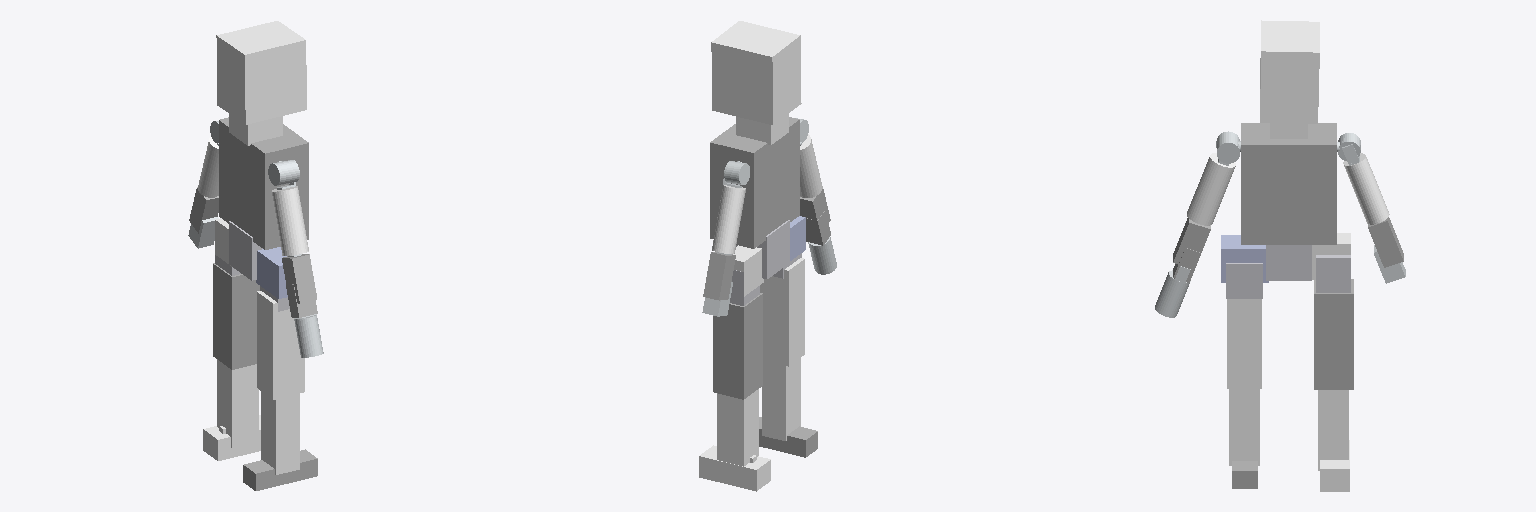
--- What the picture shows (computed from the rendered views, not written in the file) ---
The picture shows the robot from 3 angles, left to right: view 1: azimuth 30°, elevation 25°; view 2: azimuth 150°, elevation 25°; view 3: azimuth 270°, elevation 25°; orthographic projection.
Robot: ludan_v0 — 31 links, 30 joints (30 revolute); root link Body; default pose: every joint at zero.
Links seen in each view (by area): view 1: NeckPitch, Body, LeftHipYaw, RightHipYaw, LeftKnee, RightKnee, RightShoulderYaw, RightAnkleRoll, WaistYaw, RightHipPitch, RightElbowYaw, LeftAnkleRoll (+8 smaller); view 2: NeckPitch, Body, LeftHipYaw, RightHipYaw, RightKnee, LeftKnee, LeftAnkleRoll, LeftShoulderYaw, WaistYaw, LeftElbowYaw, RightAnkleRoll, RightShoulderYaw (+8 smaller); view 3: Body, NeckPitch, LeftHipYaw, RightHipYaw, RightKnee, LeftKnee, RightShoulderYaw, WaistYaw, LeftShoulderYaw, RightHipRoll, LeftHipRoll, RightHipPitch (+8 smaller).
Link boxes in pixels (x1,y1,x2,y2): NeckPitch: (216,21,306,124); Body: (219,117,308,249); LeftHipYaw: (213,263,259,369); RightHipYaw: (257,291,304,399); LeftKnee: (217,359,258,447); RightKnee: (261,391,299,474); RightShoulderYaw: (271,186,308,255); RightAnkleRoll: (243,449,317,490); WaistYaw: (229,221,262,280); RightHipPitch: (256,247,287,298); RightElbowYaw: (282,254,316,303); LeftAnkleRoll: (203,415,260,460); NeckPitch: (711,21,801,124); Body: (710,117,799,248); LeftHipYaw: (713,293,762,399); RightHipYaw: (760,258,804,366); RightKnee: (762,358,800,440); LeftKnee: (717,389,758,466); LeftAnkleRoll: (699,445,770,491); LeftShoulderYaw: (712,185,745,253); WaistYaw: (736,220,789,278); LeftElbowYaw: (703,252,735,300); RightAnkleRoll: (759,417,817,457); RightShoulderYaw: (800,134,822,197); Body: (1241,123,1336,244); NeckPitch: (1260,20,1319,123); LeftHipYaw: (1314,279,1353,389); RightHipYaw: (1227,299,1261,388); RightKnee: (1229,389,1259,465); LeftKnee: (1318,390,1348,470); RightShoulderYaw: (1187,153,1235,225); WaistYaw: (1266,245,1311,280); LeftShoulderYaw: (1343,153,1389,224); RightHipRoll: (1226,263,1262,298); LeftHipRoll: (1316,255,1350,292); RightHipPitch: (1221,235,1268,282).
Size in the robot's own frame: 0.2642 by 0.859 by 1.67 metres.
Meshes: 31 distinct files referenced, 30 mesh visuals loaded (30 binary STL); not drawn: 1 (reference not matched to a file when rendering).

The robot description file, URDF, robot "ludan_v0":
<?xml version="1.0" encoding="utf-8"?>
<!-- This URDF was automatically created by SolidWorks to URDF Exporter! Originally created by Stephen Brawner ([email redacted]) 
     Commit Version: 1.6.0-4-g7f85cfe  Build Version: 1.6.7995.38578
     For more information, please see http://wiki.ros.org/sw_urdf_exporter -->
<robot
  name="ludan_v0">
  <link
    name="Body">
    <inertial>
      <origin
        xyz="-0.0152240784632266 0.00062608413149691 0.141622269399153"
        rpy="0 0 0" />
      <mass
        value="8.74374296139117" />
      <inertia
        ixx="0.0473817781113333"
        ixy="8.07737065111168E-05"
        ixz="0.000506515175561223"
        iyy="0.0451932389195734"
        iyz="-9.47147111266396E-06"
        izz="0.0434202297379664" />
    </inertial>
    <visual>
      <origin
        xyz="0 0 0"
        rpy="0 0 0" />
      <geometry>
        <mesh
          filename="package://ludan_v0/meshes/Body.STL" />
      </geometry>
      <material
        name="">
        <color
          rgba="0.752941176470588 0.752941176470588 0.752941176470588 1" />
      </material>
    </visual>
    <collision>
      <origin
        xyz="0 0 0"
        rpy="0 0 0" />
      <geometry>
        <mesh
          filename="package://ludan_v0/meshes/Body.STL" />
      </geometry>
    </collision>
  </link>
  <link
    name="RightShoulderPitch">
    <inertial>
      <origin
        xyz="0.000649259359740931 -0.0102344632841132 0.0855693151871858"
        rpy="0 0 0" />
      <mass
        value="0.399434037733127" />
      <inertia
        ixx="0.000438266967537689"
        ixy="-7.73429398851146E-06"
        ixz="-9.04193137842321E-07"
        iyy="0.000563369056047911"
        iyz="1.60874802335731E-05"
        izz="0.0002563898582228" />
    </inertial>
    <visual>
      <origin
        xyz="0 0 0"
        rpy="0 0 0" />
      <geometry>
        <mesh
          filename="package://ludan_v0/meshes/RightShoulderPitch.STL" />
      </geometry>
      <material
        name="">
        <color
          rgba="0.898039215686275 0.917647058823529 0.929411764705882 1" />
      </material>
    </visual>
    <collision>
      <origin
        xyz="0 0 0"
        rpy="0 0 0" />
      <geometry>
        <mesh
          filename="package://ludan_v0/meshes/RightShoulderPitch.STL" />
      </geometry>
    </collision>
  </link>
  <joint
    name="RightShoulderPitch"
    type="revolute">
    <origin
      xyz="-0.0322633432164609 -0.1152375336243 0.314519084670872"
      rpy="-2.80633430581836 1.38585794535674 1.91143454067405" />
    <parent
      link="Body" />
    <child
      link="RightShoulderPitch" />
    <axis
      xyz="0 0 -1" />
    <limit
      lower="-3"
      upper="3"
      effort="100"
      velocity="100" />
  </joint>
  <link
    name="RightShoulderRoll">
    <inertial>
      <origin
        xyz="0.0283985609999437 -0.016395916837917 0.00928679086743772"
        rpy="0 0 0" />
      <mass
        value="0.0842363600759801" />
      <inertia
        ixx="3.83586021615135E-05"
        ixy="1.02399757305923E-05"
        ixz="1.32898641792268E-05"
        iyy="5.01827076506183E-05"
        iyz="-7.67290666137038E-06"
        izz="4.56934761942265E-05" />
    </inertial>
    <visual>
      <origin
        xyz="0 0 0"
        rpy="0 0 0" />
      <geometry>
        <mesh
          filename="package://ludan_v0/meshes/RightShoulderRoll.STL" />
      </geometry>
      <material
        name="">
        <color
          rgba="0.898039215686275 0.917647058823529 0.929411764705882 1" />
      </material>
    </visual>
    <collision>
      <origin
        xyz="0 0 0"
        rpy="0 0 0" />
      <geometry>
        <mesh
          filename="package://ludan_v0/meshes/RightShoulderRoll.STL" />
      </geometry>
    </collision>
  </link>
  <joint
    name="RightShoulderRoll"
    type="revolute">
    <origin
      xyz="0 0 0.0931999999999983"
      rpy="-1.57079632679489 0 0.0614729335395356" />
    <parent
      link="RightShoulderPitch" />
    <child
      link="RightShoulderRoll" />
    <axis
      xyz="0 0 -1" />
    <limit
      lower="-0.261"
      upper="2.6"
      effort="100"
      velocity="100" />
  </joint>
  <link
    name="RightShoulderYaw">
    <inertial>
      <origin
        xyz="-0.00440229399088043 -5.54404399627992E-05 -0.211239092270953"
        rpy="0 0 0" />
      <mass
        value="1.48801509204858" />
      <inertia
        ixx="0.00273302752670722"
        ixy="-1.13916521054185E-07"
        ixz="-0.000375651189212337"
        iyy="0.00268983764667374"
        iyz="4.30135940240202E-07"
        izz="0.000858677131785925" />
    </inertial>
    <visual>
      <origin
        xyz="0 0 0"
        rpy="0 0 0" />
      <geometry>
        <mesh
          filename="package://ludan_v0/meshes/RightShoulderYaw.STL" />
      </geometry>
      <material
        name="">
        <color
          rgba="1 1 1 1" />
      </material>
    </visual>
    <collision>
      <origin
        xyz="0 0 0"
        rpy="0 0 0" />
      <geometry>
        <mesh
          filename="package://ludan_v0/meshes/RightShoulderYaw.STL" />
      </geometry>
    </collision>
  </link>
  <joint
    name="RightShoulderYaw"
    type="revolute">
    <origin
      xyz="0 0 -0.0142862201502383"
      rpy="-1.5707963267949 0 1.04719755119659" />
    <parent
      link="RightShoulderRoll" />
    <child
      link="RightShoulderYaw" />
    <axis
      xyz="0 0 -1" />
    <limit
      lower="-3"
      upper="3"
      effort="100"
      velocity="100" />
  </joint>
  <link
    name="RightElbowPitch">
    <inertial>
      <origin
        xyz="6.52256026967279E-16 -0.021591110513575 0.0210579952501236"
        rpy="0 0 0" />
      <mass
        value="0.0438813047880979" />
      <inertia
        ixx="1.80810396543836E-05"
        ixy="2.74528647736014E-21"
        ixz="7.57030103690086E-21"
        iyy="1.03757928904686E-05"
        iyz="-5.18605928564471E-06"
        izz="1.59835320120182E-05" />
    </inertial>
    <visual>
      <origin
        xyz="0 0 0"
        rpy="0 0 0" />
      <geometry>
        <mesh
          filename="package://ludan_v0/meshes/RightElbowPitch.STL" />
      </geometry>
      <material
        name="">
        <color
          rgba="0.898039215686275 0.917647058823529 0.929411764705882 1" />
      </material>
    </visual>
    <collision>
      <origin
        xyz="0 0 0"
        rpy="0 0 0" />
      <geometry>
        <mesh
          filename="package://ludan_v0/meshes/RightElbowPitch.STL" />
      </geometry>
    </collision>
  </link>
  <joint
    name="RightElbowPitch"
    type="revolute">
    <origin
      xyz="0 0 -0.259855262105579"
      rpy="1.5707963267949 0 1.5707963267949" />
    <parent
      link="RightShoulderYaw" />
    <child
      link="RightElbowPitch" />
    <axis
      xyz="0 0 -1" />
    <limit
      lower="-2.09"
      upper="2.09"
      effort="100"
      velocity="100" />
  </joint>
  <link
    name="RightElbowYaw">
    <inertial>
      <origin
        xyz="1.4345173978407E-05 -0.00303201104231993 -0.113601106543956"
        rpy="0 0 0" />
      <mass
        value="1.83396454448814" />
      <inertia
        ixx="0.000686030243491682"
        ixy="-9.45777875907854E-07"
        ixz="5.15511842189736E-08"
        iyy="0.000739531755099932"
        iyz="1.15952973367071E-05"
        izz="0.000706845335750933" />
    </inertial>
    <visual>
      <origin
        xyz="0 0 0"
        rpy="0 0 0" />
      <geometry>
        <mesh
          filename="package://ludan_v0/meshes/RightElbowYaw.STL" />
      </geometry>
      <material
        name="">
        <color
          rgba="0.752941176470588 0.752941176470588 0.752941176470588 1" />
      </material>
    </visual>
    <collision>
      <origin
        xyz="0 0 0"
        rpy="0 0 0" />
      <geometry>
        <mesh
          filename="package://ludan_v0/meshes/RightElbowYaw.STL" />
      </geometry>
    </collision>
  </link>
  <joint
    name="RightElbowYaw"
    type="revolute">
    <origin
      xyz="0 0 0.0052999999999998"
      rpy="-1.5707963267949 0 0" />
    <parent
      link="RightElbowPitch" />
    <child
      link="RightElbowYaw" />
    <axis
      xyz="0 0 -1" />
    <limit
      lower="-3.14"
      upper="3.14"
      effort="100"
      velocity="100" />
  </joint>
  <link
    name="RightWristPitch">
    <inertial>
      <origin
        xyz="-0.00419634598488629 -0.0590033320610976 0.0106310495276834"
        rpy="0 0 0" />
      <mass
        value="0.989249767931049" />
      <inertia
        ixx="0.000486339238994847"
        ixy="3.32579444406753E-05"
        ixz="1.31760301658227E-05"
        iyy="0.000363390695597361"
        iyz="-3.15487399745197E-05"
        izz="0.000438176541327479" />
    </inertial>
    <visual>
      <origin
        xyz="0 0 0"
        rpy="0 0 0" />
      <geometry>
        <mesh
          filename="package://ludan_v0/meshes/RightWristPitch.STL" />
      </geometry>
      <material
        name="">
        <color
          rgba="0.752941176470588 0.752941176470588 0.752941176470588 1" />
      </material>
    </visual>
    <collision>
      <origin
        xyz="0 0 0"
        rpy="0 0 0" />
      <geometry>
        <mesh
          filename="package://ludan_v0/meshes/RightWristPitch.STL" />
      </geometry>
    </collision>
  </link>
  <joint
    name="RightWristPitch"
    type="revolute">
    <origin
      xyz="0 0 -0.163300000000002"
      rpy="1.5707963267949 0 0" />
    <parent
      link="RightElbowYaw" />
    <child
      link="RightWristPitch" />
    <axis
      xyz="0 0 -1" />
    <limit
      lower="-1.83"
      upper="1.83"
      effort="100"
      velocity="100" />
  </joint>
  <link
    name="RightWristRoll">
    <inertial>
      <origin
        xyz="0.0912420192062163 0.00257025273467509 0.00736570749180179"
        rpy="0 0 0" />
      <mass
        value="0.380767938949113" />
      <inertia
        ixx="0.000164898325375258"
        ixy="2.41583944639132E-06"
        ixz="1.23494736177959E-05"
        iyy="0.000476195990905417"
        iyz="-5.4112053925284E-06"
        izz="0.00038541928208078" />
    </inertial>
    <visual>
      <origin
        xyz="0 0 0"
        rpy="0 0 0" />
      <geometry>
        <mesh
          filename="package://ludan_v0/meshes/RightWristRoll.STL" />
      </geometry>
      <material
        name="">
        <color
          rgba="0.898039215686275 0.917647058823529 0.929411764705882 1" />
      </material>
    </visual>
    <collision>
      <origin
        xyz="0 0 0"
        rpy="0 0 0" />
      <geometry>
        <mesh
          filename="package://ludan_v0/meshes/RightWristRoll.STL" />
      </geometry>
    </collision>
  </link>
  <joint
    name="RightWristRoll"
    type="revolute">
    <origin
      xyz="0 -0.0619999999999991 0.00929999999999997"
      rpy="1.5707963267949 0 -1.5707963267949" />
    <parent
      link="RightWristPitch" />
    <child
      link="RightWristRoll" />
    <axis
      xyz="0 0 -1" />
    <limit
      lower="-1.57"
      upper="1.57"
      effort="100"
      velocity="100" />
  </joint>
  <link
    name="LeftShoulderPitch">
    <inertial>
      <origin
        xyz="0.0008561628491697 0.0102192347188457 0.0856026286995777"
        rpy="0 0 0" />
      <mass
        value="0.399434058453214" />
      <inertia
        ixx="0.000438631502513642"
        ixy="1.02587473751059E-05"
        ixz="-1.39900896142113E-06"
        iyy="0.000563004911156977"
        iyz="-1.60326318338583E-05"
        izz="0.000256389467461728" />
    </inertial>
    <visual>
      <origin
        xyz="0 0 0"
        rpy="0 0 0" />
      <geometry>
        <mesh
          filename="package://ludan_v0/meshes/LeftShoulderPitch.STL" />
      </geometry>
      <material
        name="">
        <color
          rgba="0.898039215686275 0.917647058823529 0.929411764705882 1" />
      </material>
    </visual>
    <collision>
      <origin
        xyz="0 0 0"
        rpy="0 0 0" />
      <geometry>
        <mesh
          filename="package://ludan_v0/meshes/LeftShoulderPitch.STL" />
      </geometry>
    </collision>
  </link>
  <joint
    name="LeftShoulderPitch"
    type="revolute">
    <origin
      xyz="-0.0322633432164609 0.115157509310927 0.314519084670872"
      rpy="2.70808193904271 1.37826041279858 -2.01145956661368" />
    <parent
      link="Body" />
    <child
      link="LeftShoulderPitch" />
    <axis
      xyz="0 0 -1" />
    <limit
      lower="-3"
      upper="3"
      effort="100"
      velocity="100" />
  </joint>
  <link
    name="LeftShoulderRoll">
    <inertial>
      <origin
        xyz="0.0283985609999436 0.0163959168379152 0.00928679086743653"
        rpy="0 0 0" />
      <mass
        value="0.08423636007598" />
      <inertia
        ixx="3.83586021615132E-05"
        ixy="-1.02399757305921E-05"
        ixz="1.32898641792269E-05"
        iyy="5.01827076506186E-05"
        iyz="7.67290666137014E-06"
        izz="4.56934761942266E-05" />
    </inertial>
    <visual>
      <origin
        xyz="0 0 0"
        rpy="0 0 0" />
      <geometry>
        <mesh
          filename="package://ludan_v0/meshes/LeftShoulderRoll.STL" />
      </geometry>
      <material
        name="">
        <color
          rgba="0.898039215686275 0.917647058823529 0.929411764705882 1" />
      </material>
    </visual>
    <collision>
      <origin
        xyz="0 0 0"
        rpy="0 0 0" />
      <geometry>
        <mesh
          filename="package://ludan_v0/meshes/LeftShoulderRoll.STL" />
      </geometry>
    </collision>
  </link>
  <joint
    name="LeftShoulderRoll"
    type="revolute">
    <origin
      xyz="0 0 0.0931999999999998"
      rpy="1.57079632679489 0 -0.0817085968943328" />
    <parent
      link="LeftShoulderPitch" />
    <child
      link="LeftShoulderRoll" />
    <axis
      xyz="0 0 -1" />
    <limit
      lower="-2.6"
      upper="0.26"
      effort="100"
      velocity="100" />
  </joint>
  <link
    name="LeftShoulderYaw">
    <inertial>
      <origin
        xyz="-0.00499140158943384 -3.59901253065148E-05 -0.211303564623458"
        rpy="0 0 0" />
      <mass
        value="1.48801509191213" />
      <inertia
        ixx="0.00273302752678565"
        ixy="-5.49436979989515E-08"
        ixz="-0.000375813240545769"
        iyy="0.00269073980554384"
        iyz="-8.383590213955E-07"
        izz="0.000857774972949637" />
    </inertial>
    <visual>
      <origin
        xyz="0 0 0"
        rpy="0 0 0" />
      <geometry>
        <mesh
          filename="package://ludan_v0/meshes/LeftShoulderYaw.STL" />
      </geometry>
      <material
        name="">
        <color
          rgba="1 1 1 1" />
      </material>
    </visual>
    <collision>
      <origin
        xyz="0 0 0"
        rpy="0 0 0" />
      <geometry>
        <mesh
          filename="package://ludan_v0/meshes/LeftShoulderYaw.STL" />
      </geometry>
    </collision>
  </link>
  <joint
    name="LeftShoulderYaw"
    type="revolute">
    <origin
      xyz="0 0 -0.0142862201502394"
      rpy="1.5707963267949 0 -1.0471975511966" />
    <parent
      link="LeftShoulderRoll" />
    <child
      link="LeftShoulderYaw" />
    <axis
      xyz="0 0 -1" />
    <limit
      lower="-3"
      upper="3"
      effort="0"
      velocity="0" />
  </joint>
  <link
    name="LeftElbowPitch">
    <inertial>
      <origin
        xyz="-8.32667268468867E-17 -0.0215911105135739 0.0200579952501236"
        rpy="0 0 0" />
      <mass
        value="0.0438813047880978" />
      <inertia
        ixx="1.80810396543835E-05"
        ixy="-3.18926182275766E-22"
        ixz="7.32956778935643E-22"
        iyy="1.03757928904686E-05"
        iyz="-5.18605928564471E-06"
        izz="1.59835320120182E-05" />
    </inertial>
    <visual>
      <origin
        xyz="0 0 0"
        rpy="0 0 0" />
      <geometry>
        <mesh
          filename="package://ludan_v0/meshes/LeftElbowPitch.STL" />
      </geometry>
      <material
        name="">
        <color
          rgba="0.898039215686275 0.917647058823529 0.929411764705882 1" />
      </material>
    </visual>
    <collision>
      <origin
        xyz="0 0 0"
        rpy="0 0 0" />
      <geometry>
        <mesh
          filename="package://ludan_v0/meshes/LeftElbowPitch.STL" />
      </geometry>
    </collision>
  </link>
  <joint
    name="LeftElbowPitch"
    type="revolute">
    <origin
      xyz="0 0 -0.25985526210558"
      rpy="1.5707963267949 0 1.5707963267949" />
    <parent
      link="LeftShoulderYaw" />
    <child
      link="LeftElbowPitch" />
    <axis
      xyz="0 0 -1" />
    <limit
      lower="-2.09"
      upper="2.09"
      effort="100"
      velocity="100" />
  </joint>
  <link
    name="LeftElbowYaw">
    <inertial>
      <origin
        xyz="1.43451739795866E-05 -0.00303201104231678 -0.113601106543945"
        rpy="0 0 0" />
      <mass
        value="1.83396454448809" />
      <inertia
        ixx="0.000686030243491668"
        ixy="-9.4577787588888E-07"
        ixz="5.15511842540063E-08"
        iyy="0.000739531755099883"
        iyz="1.1595297336689E-05"
        izz="0.000706845335750937" />
    </inertial>
    <visual>
      <origin
        xyz="0 0 0"
        rpy="0 0 0" />
      <geometry>
        <mesh
          filename="package://ludan_v0/meshes/LeftElbowYaw.STL" />
      </geometry>
      <material
        name="">
        <color
          rgba="0.752941176470588 0.752941176470588 0.752941176470588 1" />
      </material>
    </visual>
    <collision>
      <origin
        xyz="0 0 0"
        rpy="0 0 0" />
      <geometry>
        <mesh
          filename="package://ludan_v0/meshes/LeftElbowYaw.STL" />
      </geometry>
    </collision>
  </link>
  <joint
    name="LeftElbowYaw"
    type="revolute">
    <origin
      xyz="0 0 0.00429999999999989"
      rpy="-1.5707963267949 0 0" />
    <parent
      link="LeftElbowPitch" />
    <child
      link="LeftElbowYaw" />
    <axis
      xyz="0 0 -1" />
    <limit
      lower="-3.14"
      upper="3.14"
      effort="100"
      velocity="100" />
  </joint>
  <link
    name="LeftWristPitch">
    <inertial>
      <origin
        xyz="0.00419634598488667 -0.0589852236476009 0.0105645207770869"
        rpy="0 0 0" />
      <mass
        value="0.98924976793116" />
      <inertia
        ixx="0.000486339238994898"
        ixy="-3.32316260004728E-05"
        ixz="-1.32727218469249E-05"
        iyy="0.000363865176816942"
        iyz="-3.23557671754082E-05"
        izz="0.000437702060107975" />
    </inertial>
    <visual>
      <origin
        xyz="0 0 0"
        rpy="0 0 0" />
      <geometry>
        <mesh
          filename="package://ludan_v0/meshes/LeftWristPitch.STL" />
      </geometry>
      <material
        name="">
        <color
          rgba="0.898039215686275 0.917647058823529 0.929411764705882 1" />
      </material>
    </visual>
    <collision>
      <origin
        xyz="0 0 0"
        rpy="0 0 0" />
      <geometry>
        <mesh
          filename="package://ludan_v0/meshes/LeftWristPitch.STL" />
      </geometry>
    </collision>
  </link>
  <joint
    name="LeftWristPitch"
    type="revolute">
    <origin
      xyz="0 0 -0.163299999999995"
      rpy="1.5707963267949 0 0" />
    <parent
      link="LeftElbowYaw" />
    <child
      link="LeftWristPitch" />
    <axis
      xyz="0 0 -1" />
    <limit
      lower="-1.83"
      upper="1.83"
      effort="100"
      velocity="100" />
  </joint>
  <link
    name="LeftWristRoll">
    <inertial>
      <origin
        xyz="0.0898854077367587 -0.00205511076766862 0.00767808007036554"
        rpy="0 0 0" />
      <mass
        value="0.377466759420197" />
      <inertia
        ixx="0.000164740319408227"
        ixy="2.49393704861886E-06"
        ixz="9.26231666356872E-06"
        iyy="0.000264601446149405"
        iyz="3.83076919852541E-06"
        izz="0.000168151581142798" />
    </inertial>
    <visual>
      <origin
        xyz="0 0 0"
        rpy="0 0 0" />
      <geometry>
        <mesh
          filename="package://ludan_v0/meshes/LeftWristRoll.STL" />
      </geometry>
      <material
        name="">
        <color
          rgba="1 1 1 1" />
      </material>
    </visual>
    <collision>
      <origin
        xyz="0 0 0"
        rpy="0 0 0" />
      <geometry>
        <mesh
          filename="package://ludan_v0/meshes/LeftWristRoll.STL" />
      </geometry>
    </collision>
  </link>
  <joint
    name="LeftWristRoll"
    type="revolute">
    <origin
      xyz="0 -0.0620000000000051 0.0093"
      rpy="-1.5707963267949 0 -1.5707963267949" />
    <parent
      link="LeftWristPitch" />
    <child
      link="LeftWristRoll" />
    <axis
      xyz="0 0 -1" />
    <limit
      lower="-1.57"
      upper="1.57"
      effort="100"
      velocity="100" />
  </joint>
  <link
    name="WaistYaw">
    <inertial>
      <origin
        xyz="-0.000270482605294581 0.00033223026377511 0.103533228623644"
        rpy="0 0 0" />
      <mass
        value="0.74379092396542" />
      <inertia
        ixx="0.00378351314719932"
        ixy="-6.49148532580561E-06"
        ixz="-1.03315930764951E-05"
        iyy="0.00336292409412108"
        iyz="1.4214058788689E-05"
        izz="0.00423285293962832" />
    </inertial>
    <visual>
      <origin
        xyz="0 0 0"
        rpy="0 0 0" />
      <geometry>
        <mesh
          filename="package://ludan_v0/meshes/WaistYaw.STL" />
      </geometry>
      <material
        name="">
        <color
          rgba="0.866666666666667 0.866666666666667 0.890196078431372 1" />
      </material>
    </visual>
    <collision>
      <origin
        xyz="0 0 0"
        rpy="0 0 0" />
      <geometry>
        <mesh
          filename="package://ludan_v0/meshes/WaistYaw.STL" />
      </geometry>
    </collision>
  </link>
  <joint
    name="WaistYaw"
    type="revolute">
    <origin
      xyz="-0.018263 -4.0012E-05 0.0442"
      rpy="3.1416 0 -1.5708" />
    <parent
      link="Body" />
    <child
      link="WaistYaw" />
    <axis
      xyz="0 0 -1" />
    <limit
      lower="-3"
      upper="3"
      effort="100"
      velocity="100" />
  </joint>
  <link
    name="RightHipPitch">
    <inertial>
      <origin
        xyz="-0.0320440300801776 -0.0294086007716143 0.124321410903361"
        rpy="0 0 0" />
      <mass
        value="0.282391256550772" />
      <inertia
        ixx="0.00087907716234692"
        ixy="-3.55669497225502E-05"
        ixz="9.47002359946169E-05"
        iyy="0.000595418427749129"
        iyz="4.80026161592818E-05"
        izz="0.000503452893683166" />
    </inertial>
    <visual>
      <origin
        xyz="0 0 0"
        rpy="0 0 0" />
      <geometry>
        <mesh
          filename="package://ludan_v0/meshes/RightHipPitch.STL" />
      </geometry>
      <material
        name="">
        <color
          rgba="0.792156862745098 0.819607843137255 0.933333333333333 1" />
      </material>
    </visual>
    <collision>
      <origin
        xyz="0 0 0"
        rpy="0 0 0" />
      <geometry>
        <mesh
          filename="package://ludan_v0/meshes/RightHipPitch.STL" />
      </geometry>
    </collision>
  </link>
  <joint
    name="RightHipPitch"
    type="revolute">
    <origin
      xyz="-4.00121566864059E-05 0 0.1252"
      rpy="-1.5707963267949 0 -1.5707963267949" />
    <parent
      link="WaistYaw" />
    <child
      link="RightHipPitch" />
    <axis
      xyz="0 0 -1" />
    <limit
      lower="-1.6"
      upper="1.6"
      effort="100"
      velocity="100" />
  </joint>
  <link
    name="RightHipRoll">
    <inertial>
      <origin
        xyz="0.0705622116791458 -2.09256425925952E-06 -0.00419931497515779"
        rpy="0 0 0" />
      <mass
        value="0.522797477930784" />
      <inertia
        ixx="0.000693518299912773"
        ixy="3.29398648194142E-08"
        ixz="7.61924305303984E-05"
        iyy="0.00089212853691857"
        iyz="-8.51674216357329E-08"
        izz="0.00102830965799074" />
    </inertial>
    <visual>
      <origin
        xyz="0 0 0"
        rpy="0 0 0" />
      <geometry>
        <mesh
          filename="package://ludan_v0/meshes/RightHipRoll.STL" />
      </geometry>
      <material
        name="">
        <color
          rgba="0.866666666666667 0.866666666666667 0.890196078431372 1" />
      </material>
    </visual>
    <collision>
      <origin
        xyz="0 0 0"
        rpy="0 0 0" />
      <geometry>
        <mesh
          filename="package://ludan_v0/meshes/RightHipRoll.STL" />
      </geometry>
    </collision>
  </link>
  <joint
    name="RightHipRoll"
    type="revolute">
    <origin
      xyz="0.00820000000000069 -0.0350000000000001 0.152540012156687"
      rpy="-1.57079632679491 0 -1.57079632679491" />
    <parent
      link="RightHipPitch" />
    <child
      link="RightHipRoll" />
    <axis
      xyz="0 0 -1" />
    <limit
      lower="-0.35"
      upper="1.6"
      effort="100"
      velocity="100" />
  </joint>
  <link
    name="RightHipYaw">
    <inertial>
      <origin
        xyz="0.00377169964257437 -0.0011150778879015 -0.265568302564995"
        rpy="0 0 0" />
      <mass
        value="3.0866086030039" />
      <inertia
        ixx="0.0264398963605619"
        ixy="8.61004585375622E-05"
        ixz="0.00191872834507903"
        iyy="0.023554953286926"
        iyz="-0.000226060637978593"
        izz="0.00660011170396239" />
    </inertial>
    <visual>
      <origin
        xyz="0 0 0"
        rpy="0 0 0" />
      <geometry>
        <mesh
          filename="package://ludan_v0/meshes/RightHipYaw.STL" />
      </geometry>
      <material
        name="">
        <color
          rgba="1 1 1 1" />
      </material>
    </visual>
    <collision>
      <origin
        xyz="0 0 0"
        rpy="0 0 0" />
      <geometry>
        <mesh
          filename="package://ludan_v0/meshes/RightHipYaw.STL" />
      </geometry>
    </collision>
  </link>
  <joint
    name="RightHipYaw"
    type="revolute">
    <origin
      xyz="0 0 -0.00919999999999993"
      rpy="-1.57079632679491 0 1.5707963267949" />
    <parent
      link="RightHipRoll" />
    <child
      link="RightHipYaw" />
    <axis
      xyz="0 0 -1" />
    <limit
      lower="-3"
      upper="3"
      effort="100"
      velocity="100" />
  </joint>
  <link
    name="RightKnee">
    <inertial>
      <origin
        xyz="-0.000244115099750079 -0.132318320694932 0.00110211533543508"
        rpy="0 0 0" />
      <mass
        value="1.79628746218042" />
      <inertia
        ixx="0.0180565642762851"
        ixy="-0.0009055592418266"
        ixz="-2.30902040314087E-05"
        iyy="0.001480551251934"
        iyz="-0.000417586269697989"
        izz="0.0190844708516855" />
    </inertial>
    <visual>
      <origin
        xyz="0 0 0"
        rpy="0 0 0" />
      <geometry>
        <mesh
          filename="package://ludan_v0/meshes/RightKnee.STL" />
      </geometry>
      <material
        name="">
        <color
          rgba="1 1 1 1" />
      </material>
    </visual>
    <collision>
      <origin
        xyz="0 0 0"
        rpy="0 0 0" />
      <geometry>
        <mesh
          filename="package://ludan_v0/meshes/RightKnee.STL" />
      </geometry>
    </collision>
  </link>
  <joint
    name="RightKnee"
    type="revolute">
    <origin
      xyz="0 0.000587087047898643 -0.403000000000001"
      rpy="1.57079632679488 0 -1.57079632679489" />
    <parent
      link="RightHipYaw" />
    <child
      link="RightKnee" />
    <axis
      xyz="0 0 -1" />
    <limit
      lower="-0.17"
      upper="1.6"
      effort="100"
      velocity="100" />
  </joint>
  <link
    name="RightAnklePitch">
    <inertial>
      <origin
        xyz="-0.0207677064692418 -2.77555756156289E-15 -4.86942708377569E-11"
        rpy="0 0 0" />
      <mass
        value="0.0497266892513697" />
      <inertia
        ixx="2.18553773398794E-05"
        ixy="2.34664251321277E-21"
        ixz="-3.56102355554568E-14"
        iyy="1.81726648490368E-05"
        iyz="5.10887513733283E-14"
        izz="3.81122142746635E-05" />
    </inertial>
    <visual>
      <origin
        xyz="0 0 0"
        rpy="0 0 0" />
      <geometry>
        <mesh
          filename="package://ludan_v0/meshes/RightAnklePitch.STL" />
      </geometry>
      <material
        name="">
        <color
          rgba="1 1 1 1" />
      </material>
    </visual>
    <collision>
      <origin
        xyz="0 0 0"
        rpy="0 0 0" />
      <geometry>
        <mesh
          filename="package://ludan_v0/meshes/RightAnklePitch.STL" />
      </geometry>
    </collision>
  </link>
  <joint
    name="RightAnklePitch"
    type="revolute">
    <origin
      xyz="-0.0215000000000051 -0.3328 -0.000934523809520638"
      rpy="0 0 1.5707963267949" />
    <parent
      link="RightKnee" />
    <child
      link="RightAnklePitch" />
    <axis
      xyz="0 1 0" />
    <limit
      lower="-0.52"
      upper="0.52"
      effort="100"
      velocity="100" />
  </joint>
  <link
    name="RightAnkleRoll">
    <inertial>
      <origin
        xyz="0.00014658031710521 -0.0162366105107852 0.00901586820093389"
        rpy="0 0 0" />
      <mass
        value="0.423784329189334" />
      <inertia
        ixx="0.00143547782384892"
        ixy="-5.1049792153969E-08"
        ixz="-6.21899828428356E-06"
        iyy="0.00159807799310778"
        iyz="-8.4453907092175E-06"
        izz="0.000250098936344727" />
    </inertial>
    <visual>
      <origin
        xyz="0 0 0"
        rpy="0 0 0" />
      <geometry>
        <mesh
          filename="package://ludan_v0/meshes/RightAnkleRoll.STL" />
      </geometry>
      <material
        name="">
        <color
          rgba="0.752941176470588 0.752941176470588 0.752941176470588 1" />
      </material>
    </visual>
    <collision>
      <origin
        xyz="0 0 0"
        rpy="0 0 0" />
      <geometry>
        <mesh
          filename="package://ludan_v0/meshes/RightAnkleRoll.STL" />
      </geometry>
    </collision>
  </link>
  <joint
    name="RightAnkleRoll"
    type="revolute">
    <origin
      xyz="-0.0349999999999999 -0.0215000000000045 0"
      rpy="1.5707963267949 1.5707963267949 0" />
    <parent
      link="RightAnklePitch" />
    <child
      link="RightAnkleRoll" />
    <axis
      xyz="0 0 -1" />
    <limit
      lower="-0.09"
      upper="0.09"
      effort="100"
      velocity="100" />
  </joint>
  <link
    name="LeftHipPitch">
    <inertial>
      <origin
        xyz="0.0320441137975664 -0.0297270997956851 0.124241422311115"
        rpy="0 0 0" />
      <mass
        value="0.282390658343301" />
      <inertia
        ixx="0.000879076614032474"
        ixy="3.55575407345079E-05"
        ixz="-9.46998837296546E-05"
        iyy="0.00059541725943582"
        iyz="4.80257976213937E-05"
        izz="0.000503451470472822" />
    </inertial>
    <visual>
      <origin
        xyz="0 0 0"
        rpy="0 0 0" />
      <geometry>
        <mesh
          filename="package://ludan_v0/meshes/LeftHipPitch.STL" />
      </geometry>
      <material
        name="">
        <color
          rgba="1 1 1 1" />
      </material>
    </visual>
    <collision>
      <origin
        xyz="0 0 0"
        rpy="0 0 0" />
      <geometry>
        <mesh
          filename="package://ludan_v0/meshes/LeftHipPitch.STL" />
      </geometry>
    </collision>
  </link>
  <joint
    name="LeftHipPitch"
    type="revolute">
    <origin
      xyz="-4.00121566865308E-05 0 0.1252"
      rpy="-1.57079632679489 0 1.5707963267949" />
    <parent
      link="WaistYaw" />
    <child
      link="LeftHipPitch" />
    <axis
      xyz="0 0 -1" />
    <limit
      lower="-1.6"
      upper="1.6"
      effort="100"
      velocity="100" />
  </joint>
  <link
    name="LeftHipRoll">
    <inertial>
      <origin
        xyz="0.0705622116791479 -2.09256425999504E-06 0.00400068502484173"
        rpy="0 0 0" />
      <mass
        value="0.522797477930781" />
      <inertia
        ixx="0.000693518299912768"
        ixy="3.29398648159847E-08"
        ixz="7.61924305304008E-05"
        iyy="0.000892590705838784"
        iyz="-4.05008006868648E-08"
        izz="0.00102784748907052" />
    </inertial>
    <visual>
      <origin
        xyz="0 0 0"
        rpy="0 0 0" />
      <geometry>
        <mesh
          filename="package://ludan_v0/meshes/LeftHipRoll.STL" />
      </geometry>
      <material
        name="">
        <color
          rgba="0.866666666666667 0.866666666666667 0.890196078431372 1" />
      </material>
    </visual>
    <collision>
      <origin
        xyz="0 0 0"
        rpy="0 0 0" />
      <geometry>
        <mesh
          filename="package://ludan_v0/meshes/LeftHipRoll.STL" />
      </geometry>
    </collision>
  </link>
  <joint
    name="LeftHipRoll"
    type="revolute">
    <origin
      xyz="0 -0.0349999999999995 0.152459987843314"
      rpy="1.57079632679491 0 -1.5707963267949" />
    <parent
      link="LeftHipPitch" />
    <child
      link="LeftHipRoll" />
    <axis
      xyz="0 0 -1" />
    <limit
      lower="-1.6"
      upper="0.35"
      effort="100"
      velocity="100" />
  </joint>
  <link
    name="LeftHipYaw">
    <inertial>
      <origin
        xyz="0.00504725270234465 -0.000241328749118686 -0.265471047894519"
        rpy="0 0 0" />
      <mass
        value="2.93523693319794" />
      <inertia
        ixx="0.0259698023353013"
        ixy="-8.73716411862931E-05"
        ixz="0.00191874250827129"
        iyy="0.0230790629756764"
        iyz="0.000222609455166064"
        izz="0.00659622405325168" />
    </inertial>
    <visual>
      <origin
        xyz="0 0 0"
        rpy="0 0 0" />
      <geometry>
        <mesh
          filename="package://ludan_v0/meshes/LeftHipYaw.STL" />
      </geometry>
      <material
        name="">
        <color
          rgba="0.752941176470588 0.752941176470588 0.752941176470588 1" />
      </material>
    </visual>
    <collision>
      <origin
        xyz="0 0 0"
        rpy="0 0 0" />
      <geometry>
        <mesh
          filename="package://ludan_v0/meshes/LeftHipYaw.STL" />
      </geometry>
    </collision>
  </link>
  <joint
    name="LeftHipYaw"
    type="revolute">
    <origin
      xyz="0 0 -0.00100000000000052"
      rpy="1.57079632679489 0 -1.5707963267949" />
    <parent
      link="LeftHipRoll" />
    <child
      link="LeftHipYaw" />
    <axis
      xyz="0 0 -1" />
    <limit
      lower="-3"
      upper="3"
      effort="100"
      velocity="100" />
  </joint>
  <link
    name="LeftKnee">
    <inertial>
      <origin
        xyz="0.00112894378272854 -0.132370510233735 0.00110211536423568"
        rpy="0 0 0" />
      <mass
        value="1.7962874358265" />
      <inertia
        ixx="0.0180565232954021"
        ixy="0.000906060689577554"
        ixz="2.30573397229348E-05"
        iyy="0.00148059223413416"
        iyz="-0.000417693298931351"
        izz="0.0190844708529551" />
    </inertial>
    <visual>
      <origin
        xyz="0 0 0"
        rpy="0 0 0" />
      <geometry>
        <mesh
          filename="package://ludan_v0/meshes/LeftKnee.STL" />
      </geometry>
      <material
        name="">
        <color
          rgba="1 1 1 1" />
      </material>
    </visual>
    <collision>
      <origin
        xyz="0 0 0"
        rpy="0 0 0" />
      <geometry>
        <mesh
          filename="package://ludan_v0/meshes/LeftKnee.STL" />
      </geometry>
    </collision>
  </link>
  <joint
    name="LeftKnee"
    type="revolute">
    <origin
      xyz="0 0 -0.4045"
      rpy="1.5707963267949 0 -1.5707963267949" />
    <parent
      link="LeftHipYaw" />
    <child
      link="LeftKnee" />
    <axis
      xyz="0 0 1" />
    <limit
      lower="-0.17"
      upper="1.6"
      effort="100"
      velocity="100" />
  </joint>
  <link
    name="LeftAnklePitch">
    <inertial>
      <origin
        xyz="0.00976770646924141 -0.0539999999999995 -4.8702639143805E-11"
        rpy="0 0 0" />
      <mass
        value="0.0497266892513695" />
      <inertia
        ixx="2.18553773398793E-05"
        ixy="-3.82648793620849E-21"
        ixz="3.56100715363005E-14"
        iyy="1.81726648490368E-05"
        iyz="-5.10887784806053E-14"
        izz="3.81122142746634E-05" />
    </inertial>
    <visual>
      <origin
        xyz="0 0 0"
        rpy="0 0 0" />
      <geometry>
        <mesh
          filename="package://ludan_v0/meshes/LeftAnklePitch.STL" />
      </geometry>
      <material
        name="">
        <color
          rgba="1 1 1 1" />
      </material>
    </visual>
    <collision>
      <origin
        xyz="0 0 0"
        rpy="0 0 0" />
      <geometry>
        <mesh
          filename="package://ludan_v0/meshes/LeftAnklePitch.STL" />
      </geometry>
    </collision>
  </link>
  <joint
    name="LeftAnklePitch"
    type="revolute">
    <origin
      xyz="-0.0319129129520989 -0.343800000000001 -0.000934523809521935"
      rpy="-3.14159265358978 0 -1.5707963267949" />
    <parent
      link="LeftKnee" />
    <child
      link="LeftAnklePitch" />
    <axis
      xyz="0 0 1" />
    <limit
      lower="-0.52"
      upper="0.52"
      effort="100"
      velocity="100" />
  </joint>
  <link
    name="LeftAnkleRoll">
    <inertial>
      <origin
        xyz="0.0162366568296413 -0.000146673422036163 0.00901673637033555"
        rpy="0 0 0" />
      <mass
        value="0.423786947962651" />
      <inertia
        ixx="0.00159810318894566"
        ixy="-5.15811084486362E-08"
        ixz="8.44591721217415E-06"
        iyy="0.00143550361198925"
        iyz="6.21036776560053E-06"
        izz="0.000250098423979248" />
    </inertial>
    <visual>
      <origin
        xyz="0 0 0"
        rpy="0 0 0" />
      <geometry>
        <mesh
          filename="package://ludan_v0/meshes/LeftAnkleRoll.STL" />
      </geometry>
      <material
        name="">
        <color
          rgba="1 1 1 1" />
      </material>
    </visual>
    <collision>
      <origin
        xyz="0 0 0"
        rpy="0 0 0" />
      <geometry>
        <mesh
          filename="package://ludan_v0/meshes/LeftAnkleRoll.STL" />
      </geometry>
    </collision>
  </link>
  <joint
    name="LeftAnkleRoll"
    type="revolute">
    <origin
      xyz="0.0239999999999991 -0.0325000000000003 0"
      rpy="-1.5707963267949 0 0" />
    <parent
      link="LeftAnklePitch" />
    <child
      link="LeftAnkleRoll" />
    <axis
      xyz="0 0 -1" />
    <limit
      lower="-0.09"
      upper="0.09"
      effort="100"
      velocity="100" />
  </joint>
  <link
    name="NeckYaw">
    <inertial>
      <origin
        xyz="0 0 0"
        rpy="0 0 0" />
      <mass
        value="0.5" />
      <inertia
        ixx="0"
        ixy="0"
        ixz="0"
        iyy="0"
        iyz="0"
        izz="0" />
    </inertial>
    <visual>
      <origin
        xyz="0 0 0"
        rpy="0 0 0" />
      <geometry>
        <mesh
          filename="package://ludan_v0/meshes/NeckYaw.STL" />
      </geometry>
      <material
        name="">
        <color
          rgba="1 1 1 1" />
      </material>
    </visual>
    <collision>
      <origin
        xyz="0 0 0"
        rpy="0 0 0" />
      <geometry>
        <mesh
          filename="package://ludan_v0/meshes/NeckYaw.STL" />
      </geometry>
    </collision>
  </link>
  <joint
    name="NeckYaw"
    type="revolute">
    <origin
      xyz="-0.032263 9.7233E-05 0.31235"
      rpy="0 0 0" />
    <parent
      link="Body" />
    <child
      link="NeckYaw" />
    <axis
      xyz="0 0 -1" />
    <limit
      lower="-3"
      upper="3"
      effort="100"
      velocity="100" />
  </joint>
  <link
    name="NeckRoll">
    <inertial>
      <origin
        xyz="0.00138285731553466 4.55816445487367E-05 -0.020324594146138"
        rpy="0 0 0" />
      <mass
        value="0.154027503183816" />
      <inertia
        ixx="7.40519583259337E-05"
        ixy="-2.47240128380056E-07"
        ixz="-2.00344775020786E-06"
        iyy="8.4661615870976E-05"
        iyz="-8.74121067857036E-08"
        izz="7.10766974653839E-05" />
    </inertial>
    <visual>
      <origin
        xyz="0 0 0"
        rpy="0 0 0" />
      <geometry>
        <mesh
          filename="package://ludan_v0/meshes/NeckRoll.STL" />
      </geometry>
      <material
        name="">
        <color
          rgba="1 1 1 1" />
      </material>
    </visual>
    <collision>
      <origin
        xyz="0 0 0"
        rpy="0 0 0" />
      <geometry>
        <mesh
          filename="package://ludan_v0/meshes/NeckRoll.STL" />
      </geometry>
    </collision>
  </link>
  <joint
    name="NeckRoll"
    type="revolute">
    <origin
      xyz="0 0 0.1852"
      rpy="1.5707963267949 0 -1.5707963267949" />
    <parent
      link="NeckYaw" />
    <child
      link="NeckRoll" />
    <axis
      xyz="0 0 1" />
    <limit
      lower="-0.7"
      upper="0.7"
      effort="100"
      velocity="100" />
  </joint>
  <link
    name="NeckPitch">
    <inertial>
      <origin
        xyz="0.109878013519724 -0.00621138750744678 0.0020453330844377"
        rpy="0 0 0" />
      <mass
        value="0.165906211949539" />
      <inertia
        ixx="5.57930875172184E-05"
        ixy="-3.64059085553665E-05"
        ixz="2.57325485558246E-05"
        iyy="0.000325444109936595"
        iyz="-4.85761480779336E-06"
        izz="0.000323216622622941" />
    </inertial>
    <visual>
      <origin
        xyz="0 0 0"
        rpy="0 0 0" />
      <geometry>
        <mesh
          filename="package://ludan_v0/meshes/NeckPitch.STL" />
      </geometry>
      <material
        name="">
        <color
          rgba="1 1 1 1" />
      </material>
    </visual>
    <collision>
      <origin
        xyz="0 0 0"
        rpy="0 0 0" />
      <geometry>
        <mesh
          filename="package://ludan_v0/meshes/NeckPitch.STL" />
      </geometry>
    </collision>
  </link>
  <joint
    name="NeckPitch"
    type="revolute">
    <origin
      xyz="0 0 -0.0246999999999825"
      rpy="1.57079632679467 0 1.59456305937524" />
    <parent
      link="NeckRoll" />
    <child
      link="NeckPitch" />
    <axis
      xyz="0 0 -1" />
    <limit
      lower="-0.52"
      upper="0.52"
      effort="100"
      velocity="100" />
  </joint>
</robot>
